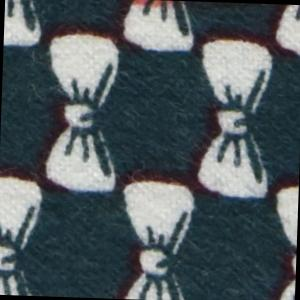Stain: (120, 1, 186, 12)
